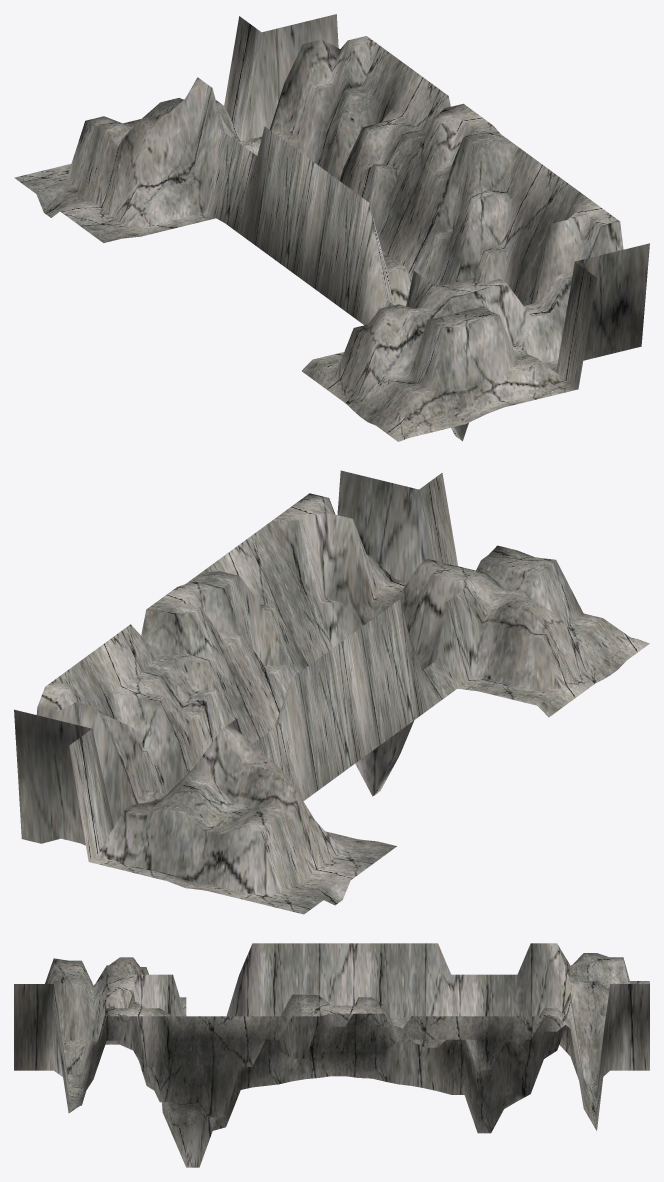
Rendered from DWARF_PALACE_MAINHALL_CELLING02B.fbx.
3 views of the same model, one above another, from view 1: azimuth 30°, elevation 25°; view 2: azimuth 150°, elevation 25°; view 3: azimuth 270°, elevation 25° (orthographic). The views are drawn at different scales.
Visible parts, largest first — view 1: DWARF_PALACE_MAINHALL_CELLING02B; view 2: DWARF_PALACE_MAINHALL_CELLING02B; view 3: DWARF_PALACE_MAINHALL_CELLING02B.
Boxes of the visible parts, bbox=[...] form: DWARF_PALACE_MAINHALL_CELLING02B: bbox=[14, 14, 649, 441]; DWARF_PALACE_MAINHALL_CELLING02B: bbox=[14, 470, 649, 914]; DWARF_PALACE_MAINHALL_CELLING02B: bbox=[14, 943, 649, 1167].
Bounding box in the file's own units: 302974 × 223114 × 625275.
1 material, 1 textured.
